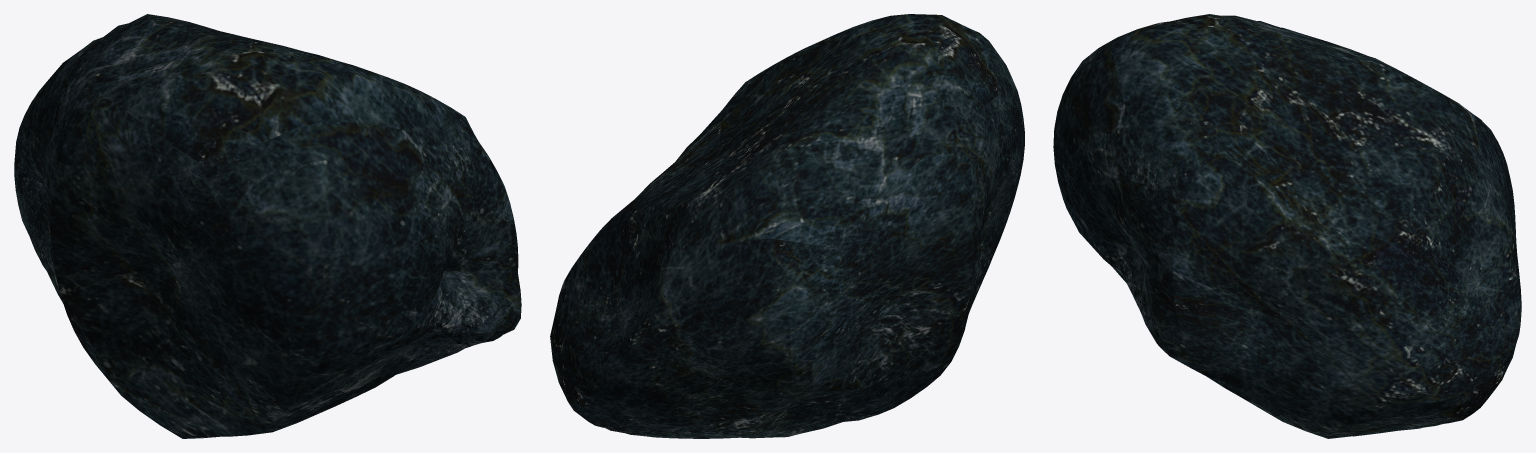
The model's file is rock - Copy.fbx.
3 renders of one model, left to right at view 1: azimuth 30°, elevation 25°; view 2: azimuth 150°, elevation 25°; view 3: azimuth 270°, elevation 25°, orthographic. The views are drawn at different scales.
Visible parts, largest first — view 1: Cube, Cube_cell.002, Cube_cell.006, Cube_cell.009, Cube_cell.008, Cube_cell, Cube_cell.007, Cube_cell.001, Cube_cell.010, Cube_cell.012, Cube_cell.016, Cube_cell.014 (+1 smaller); view 2: Cube, Cube_cell.007, Cube_cell.019, Cube_cell.013, Cube_cell.018, Cube_cell.004, Cube_cell.010, Cube_cell.015, Cube_cell.006, Cube_cell.009, Cube_cell.017, Cube_cell.016 (+1 smaller); view 3: Cube, Cube_cell.018, Cube_cell.014, Cube_cell.013, Cube_cell.003, Cube_cell.002, Cube_cell.016, Cube_cell.008, Cube_cell.007, Cube_cell.015, Cube_cell.004, Cube_cell.011 (+1 smaller).
Part boxes in pixels (x1,y1,x2,y2): Cube: [14, 14, 521, 438]; Cube_cell.002: [250, 87, 460, 320]; Cube_cell.006: [63, 62, 248, 355]; Cube_cell.009: [181, 119, 322, 376]; Cube_cell.008: [402, 187, 520, 369]; Cube_cell: [182, 347, 404, 436]; Cube_cell.007: [26, 14, 220, 289]; Cube_cell.001: [286, 233, 420, 367]; Cube_cell.010: [62, 289, 219, 438]; Cube_cell.012: [238, 344, 407, 406]; Cube_cell.016: [234, 57, 476, 185]; Cube_cell.014: [475, 137, 521, 304]; Cube: [550, 14, 1024, 438]; Cube_cell.007: [742, 95, 976, 343]; Cube_cell.019: [741, 232, 904, 416]; Cube_cell.013: [550, 242, 704, 411]; Cube_cell.018: [578, 112, 806, 262]; Cube_cell.004: [655, 227, 764, 423]; Cube_cell.010: [840, 278, 981, 422]; Cube_cell.015: [571, 305, 666, 422]; Cube_cell.006: [900, 41, 1006, 296]; Cube_cell.009: [974, 56, 1024, 272]; Cube_cell.017: [698, 414, 840, 438]; Cube_cell.016: [731, 33, 934, 119]; Cube: [1053, 14, 1521, 438]; Cube_cell.018: [1263, 75, 1477, 343]; Cube_cell.014: [1152, 193, 1280, 371]; Cube_cell.013: [1388, 161, 1506, 416]; Cube_cell.003: [1255, 327, 1453, 438]; Cube_cell.002: [1058, 23, 1157, 242]; Cube_cell.016: [1125, 16, 1320, 197]; Cube_cell.008: [1095, 186, 1172, 357]; Cube_cell.007: [1290, 30, 1481, 126]; Cube_cell.015: [1482, 227, 1521, 400]; Cube_cell.004: [1468, 128, 1518, 267]; Cube_cell.011: [1199, 337, 1274, 416].
Size of the model in its own units: 205 by 197 by 240.
Materials: 1 (1 with a texture image).
